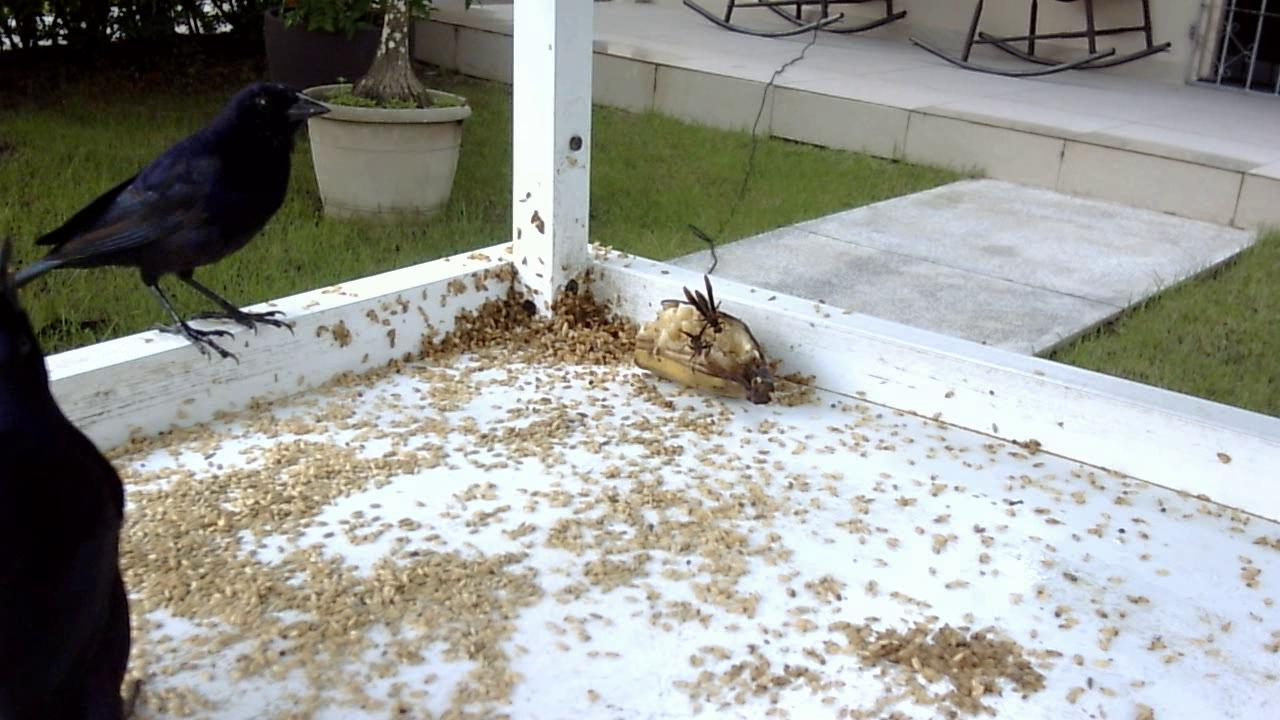chupim: (6, 72, 338, 379), (1, 229, 143, 720)
